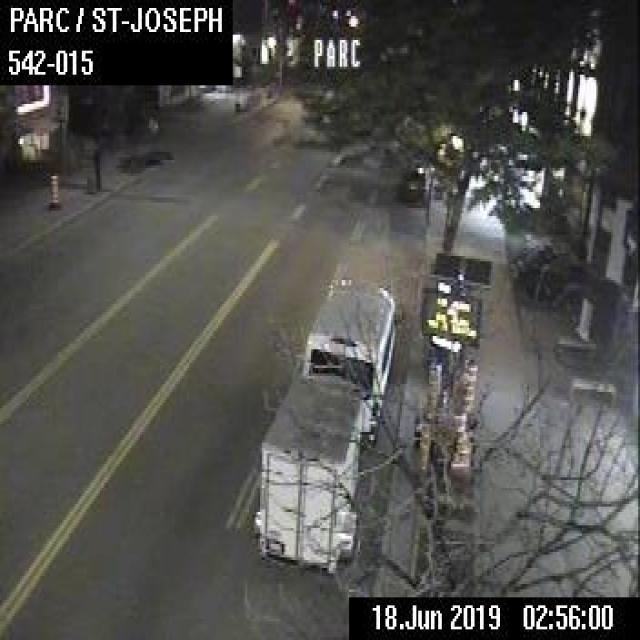construction: (419, 250, 492, 400), (450, 410, 471, 470), (460, 358, 475, 423), (419, 407, 434, 467), (426, 361, 441, 414), (47, 171, 59, 209)
vehicle: (250, 281, 402, 562), (398, 157, 432, 202)
